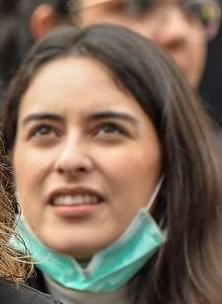Wore Mask Incorrectly: (0, 6, 201, 293)
